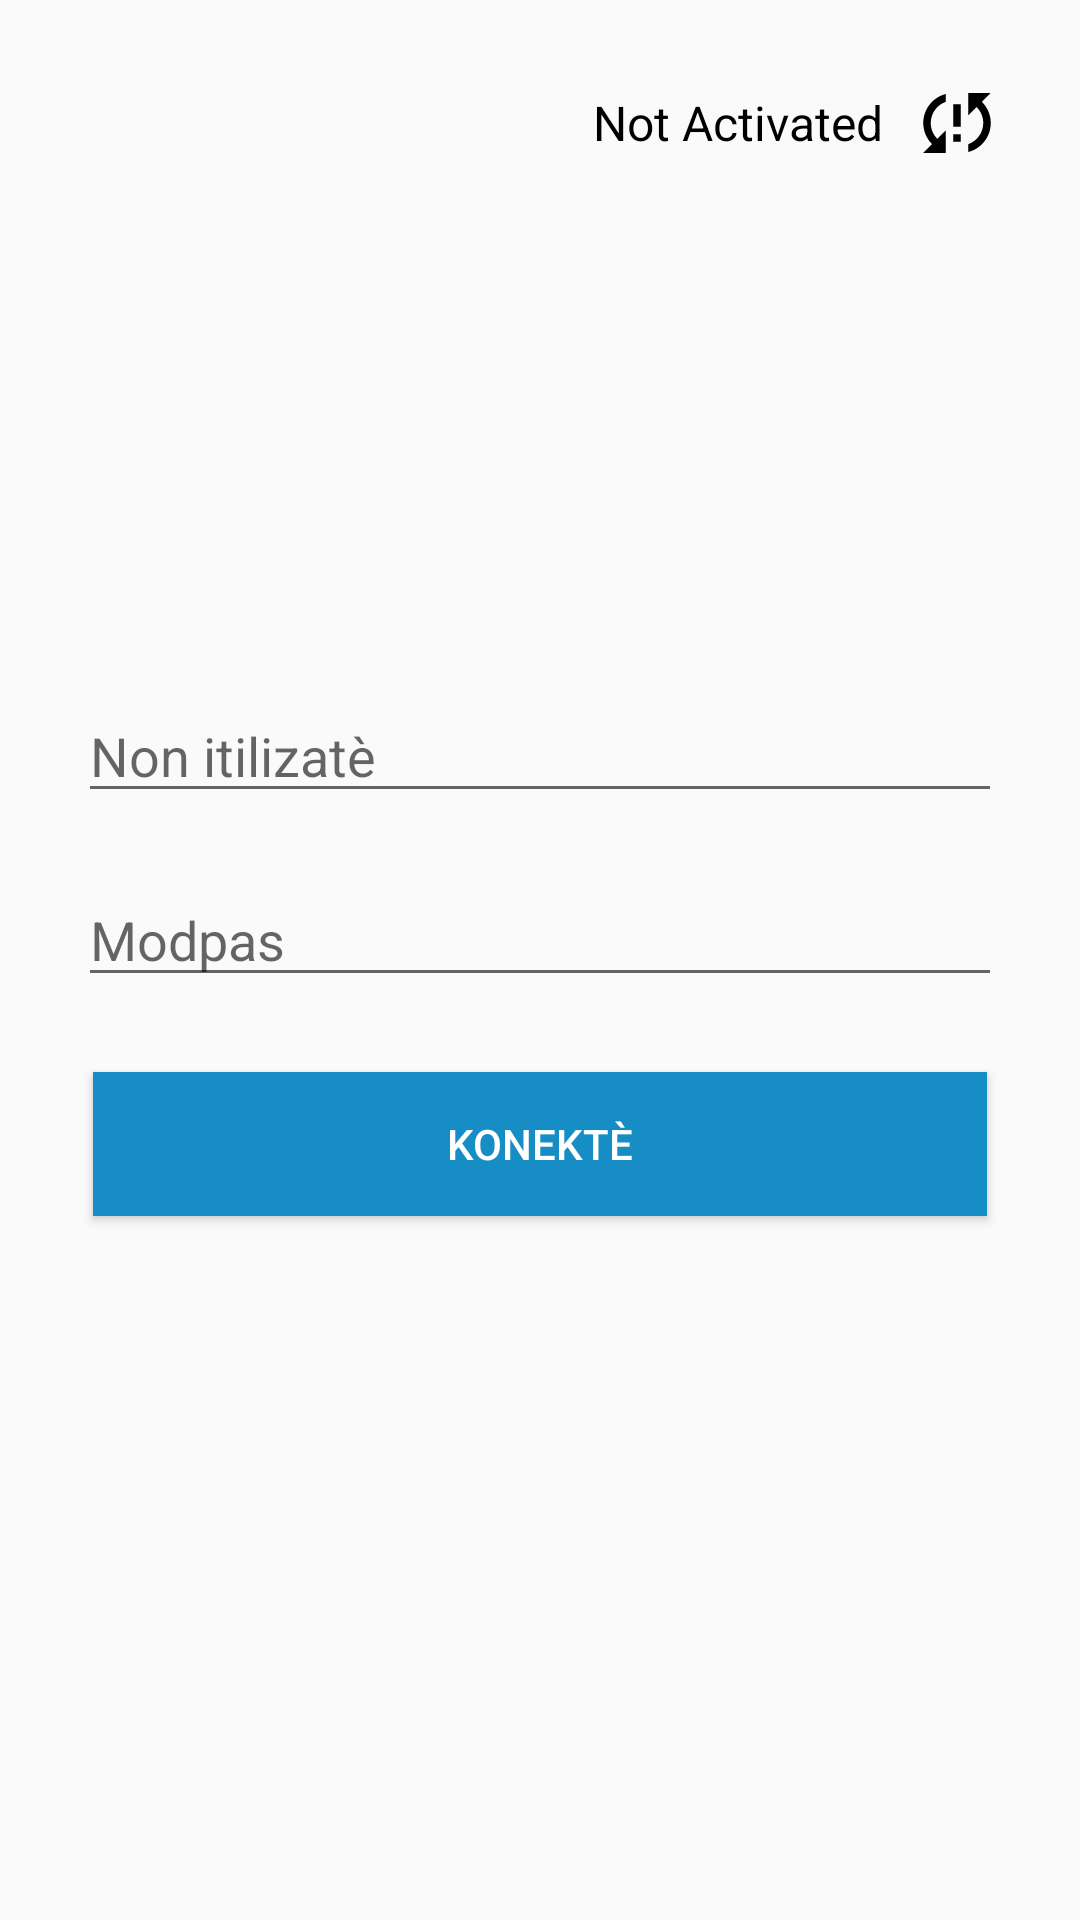

Where icons sit on this 1080 x 1920 app screen, as (x1, y1, x2, y2):
sync problem: (923, 93, 991, 153)
